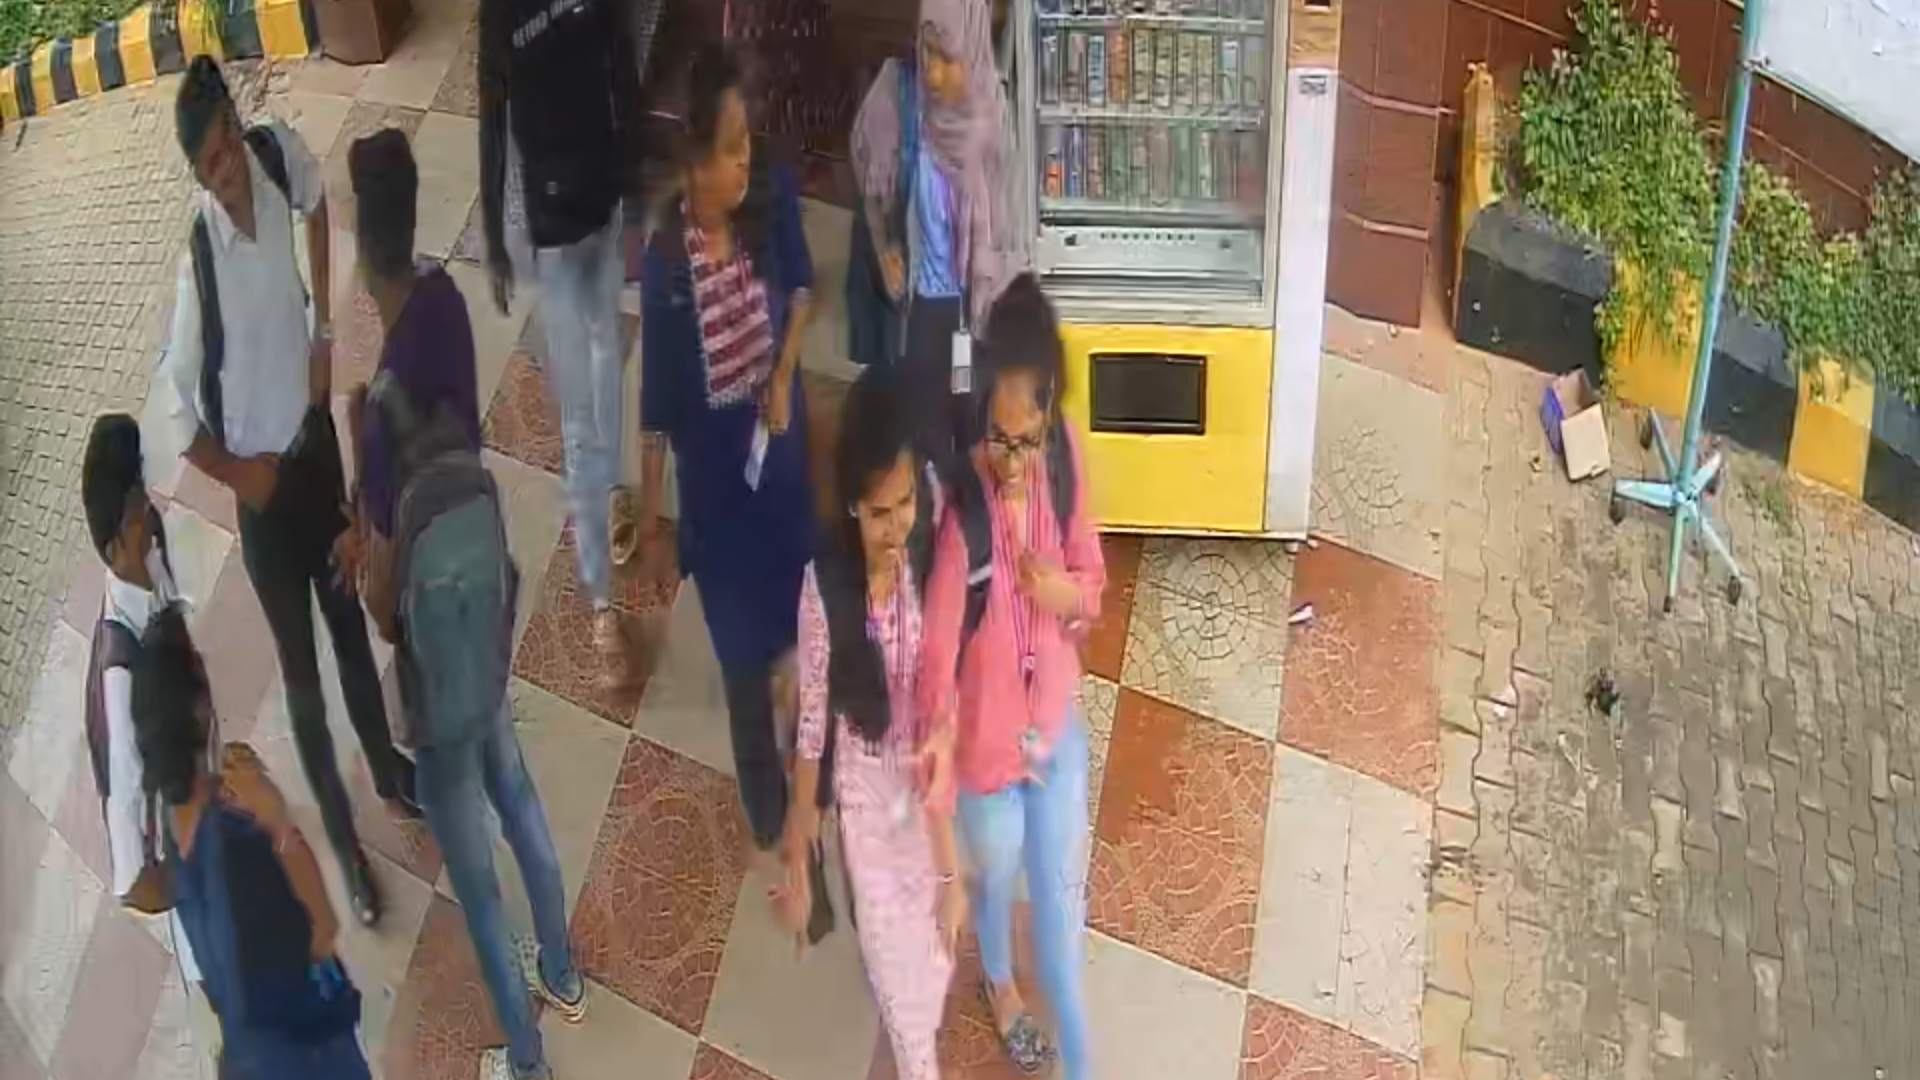not intruder: (646, 59, 858, 891), (939, 291, 1129, 1080), (767, 427, 971, 1080), (851, 7, 1056, 431)
